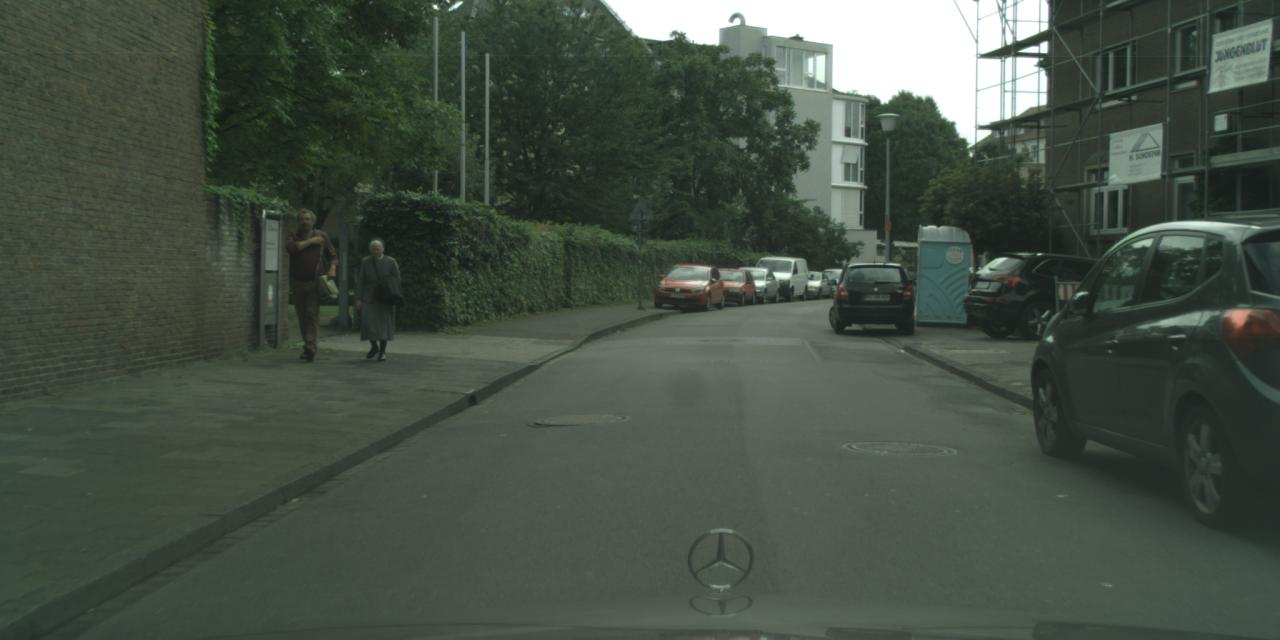ped: (276, 208, 337, 358), (352, 238, 402, 358)
